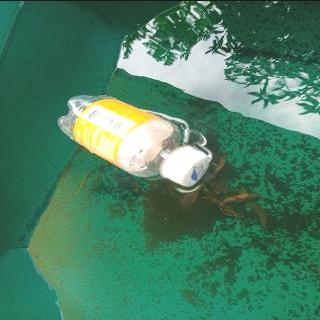bottle: (52, 90, 216, 189)
